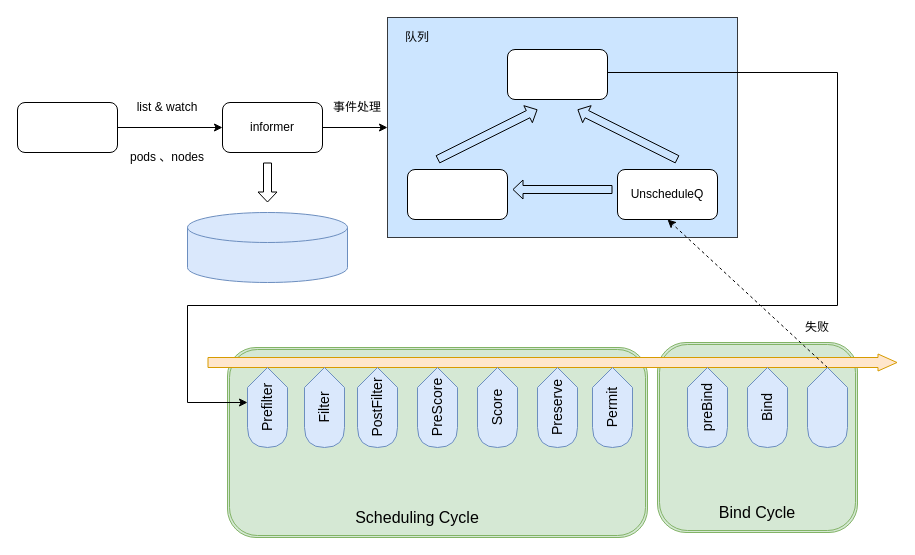
Some shapes in this 915 by 555 pixel diagram are drawn without their labels. Each missing label, with the centre of its shape:
"activeQ" belongs at (x=557, y=74).
"BackOffQ" belongs at (x=457, y=194).
"kubeapi" belongs at (x=67, y=127).
"PostBind" belongs at (x=827, y=407).
"信息本地缓存（带索引）" belongs at (x=267, y=247).
